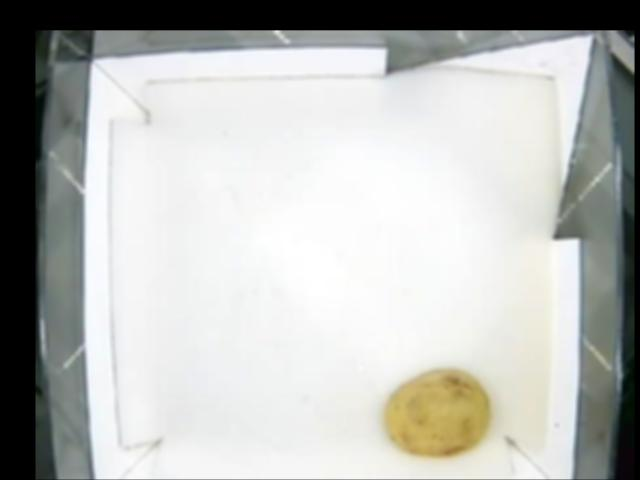Potato: (383, 366, 488, 455)
